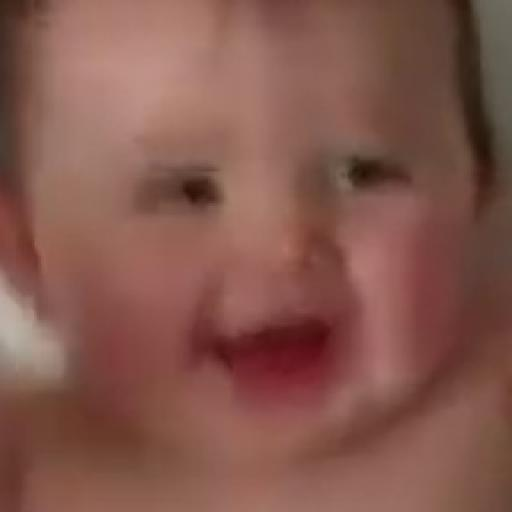Autism: (9, 8, 497, 458)
